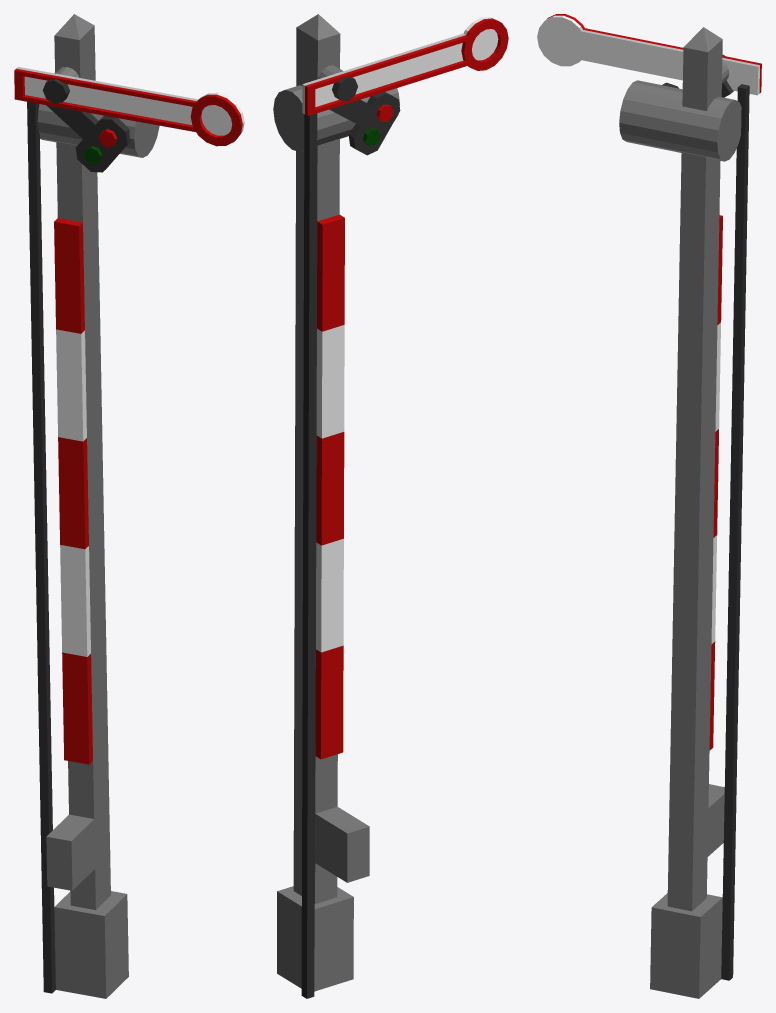
Rendered from GMLID_4323540_367099_910.dae.
3 renders of one model, left to right at view 1: azimuth 90°, elevation 25°; view 2: azimuth 150°, elevation 25°; view 3: azimuth 270°, elevation 25°, orthographic. The views are drawn at different scales.
Size of the model in its own units: 2.28 by 3.01 by 14.05.
